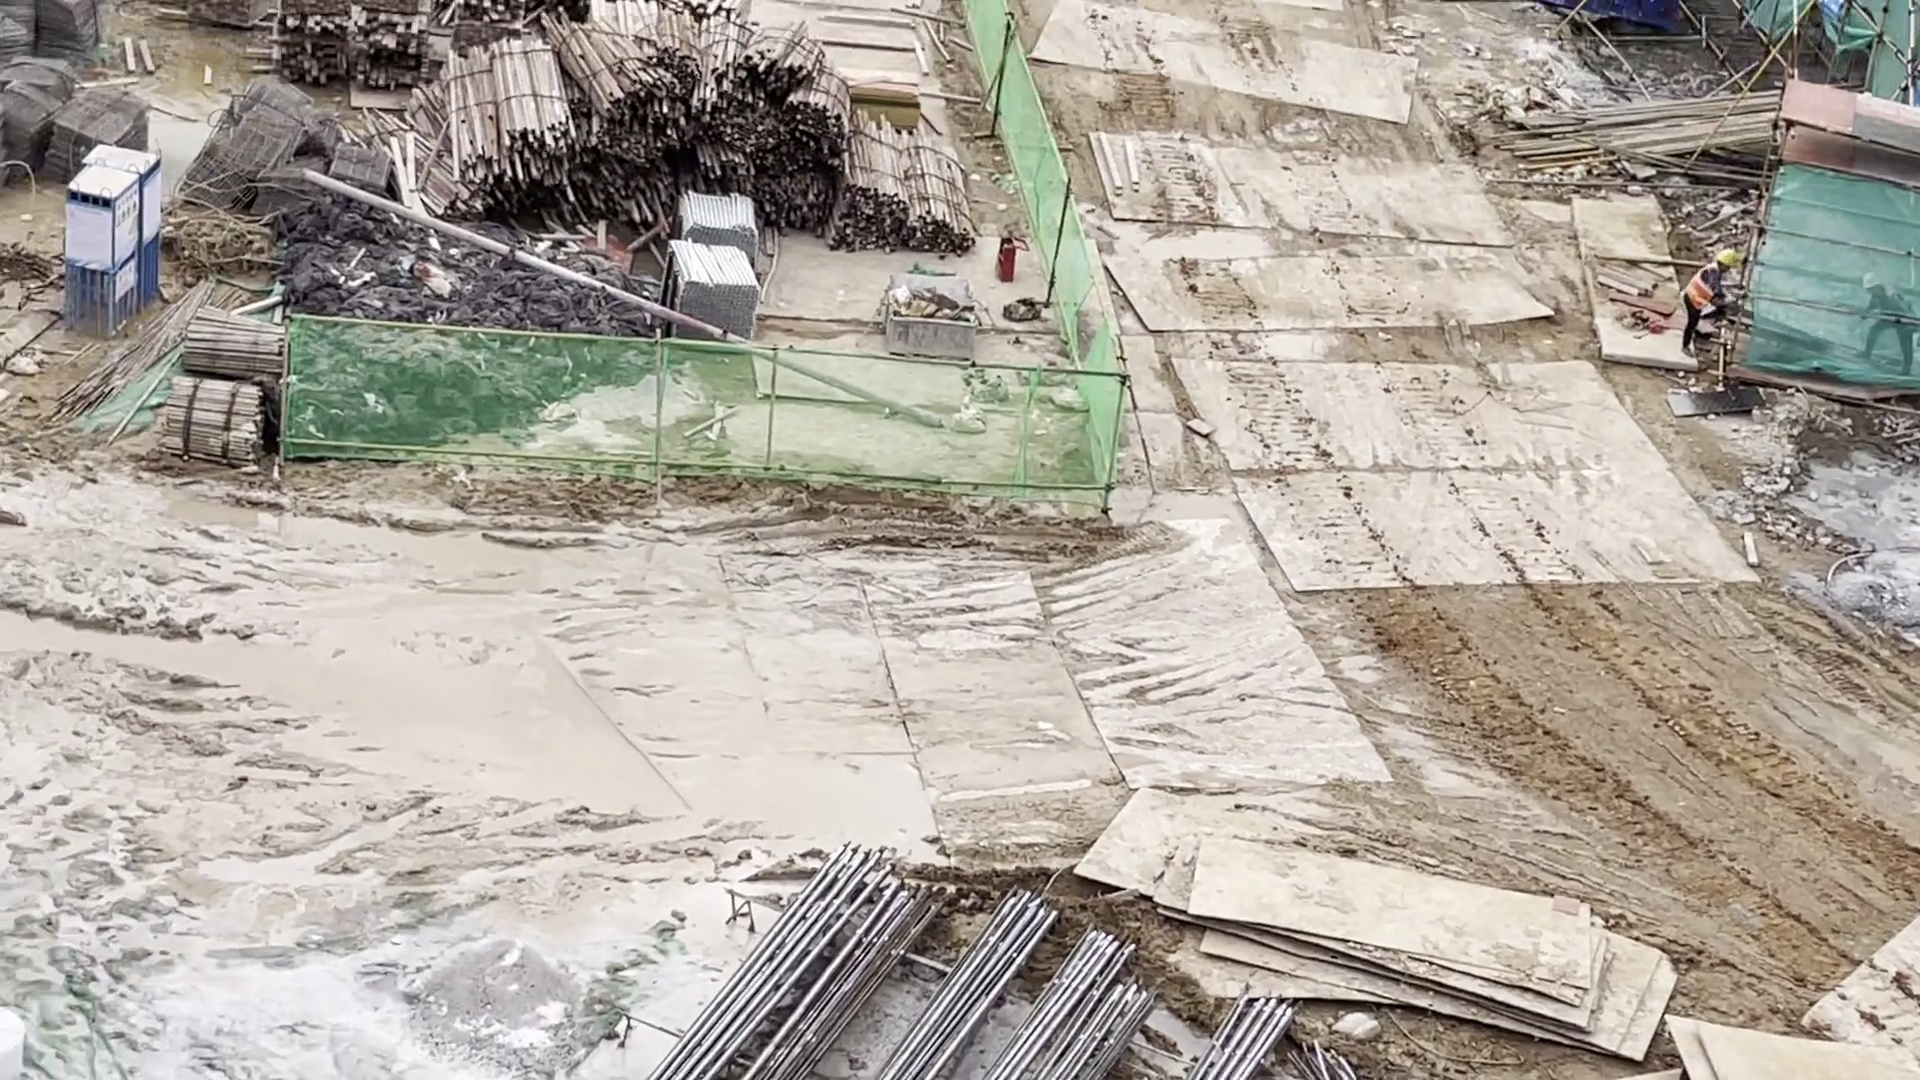helmet: (1862, 274, 1881, 287), (1719, 250, 1736, 265)
hopper: (887, 271, 974, 366)
person: (1858, 269, 1917, 377), (1681, 247, 1735, 362)
scaffold: (666, 192, 763, 339)
vest: (1688, 264, 1718, 310)
wood: (273, 1, 431, 92)
